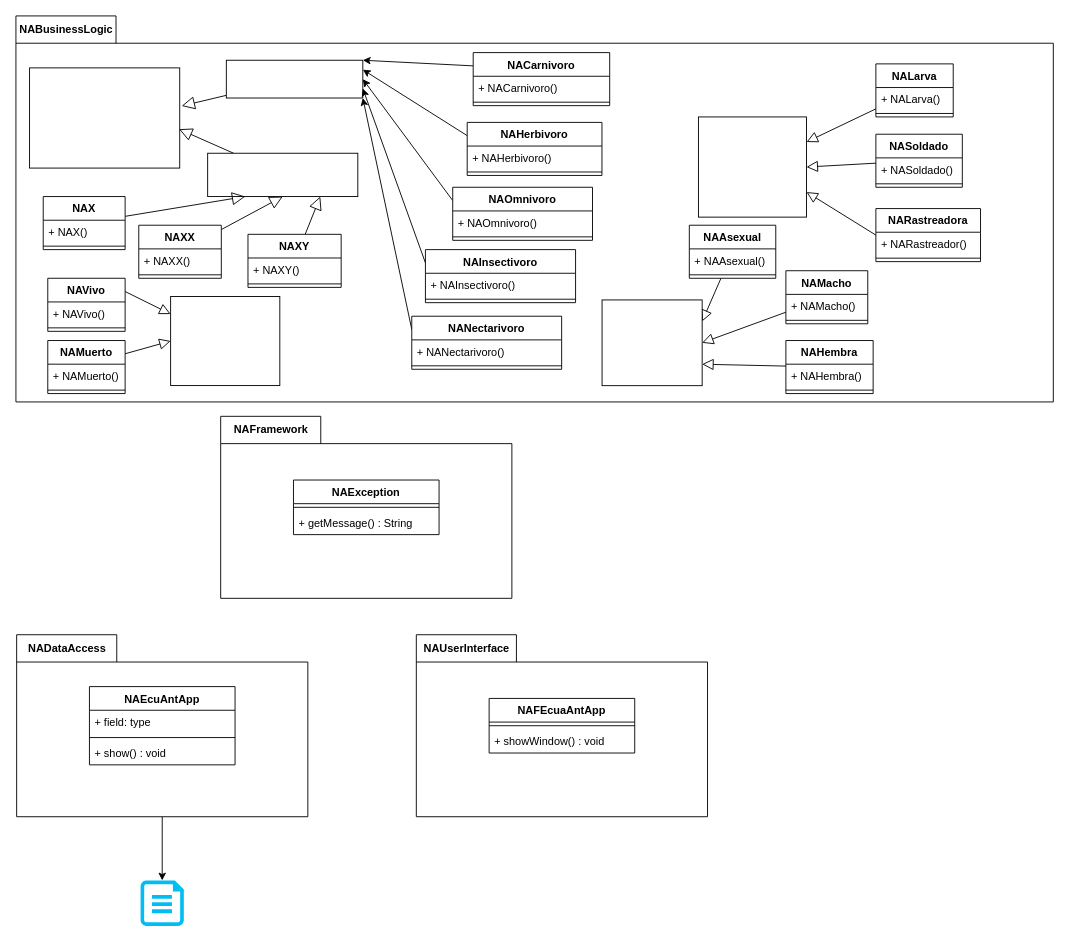
Some shapes in this 1069 by 942 pixel diagram are drawn without their labels. The centre of each missing label's shape, as x and y in pixels:
<<abstract>> NAAlimento # naTipo : String + toString() : String: the point at 104,117
<<abstract>> NAEstado # naTipo : String + toString() : String: the point at 225,341
<<abstract>> NAGenoAlimento: the point at 282,174
<<abstract>> NAHormiga # naTipo : String + toString() : String: the point at 752,166
<<abstract>> NAIngestaNativa: the point at 294,78
<<abstract>> NASexo # naTipo : String + toString() : String: the point at 651,342
